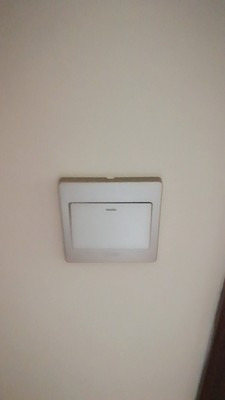switch: (67, 194, 158, 255)
